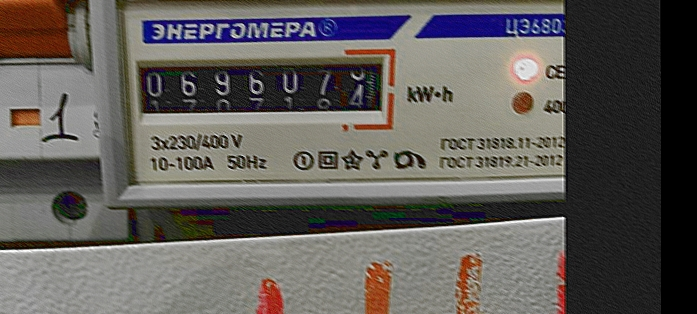0: (281, 65, 299, 95), (146, 69, 163, 97)
4: (348, 79, 365, 108)
6: (248, 66, 265, 95), (180, 68, 197, 96)
7: (315, 66, 334, 97)
9: (213, 68, 231, 96)
screen: (124, 44, 402, 129)
